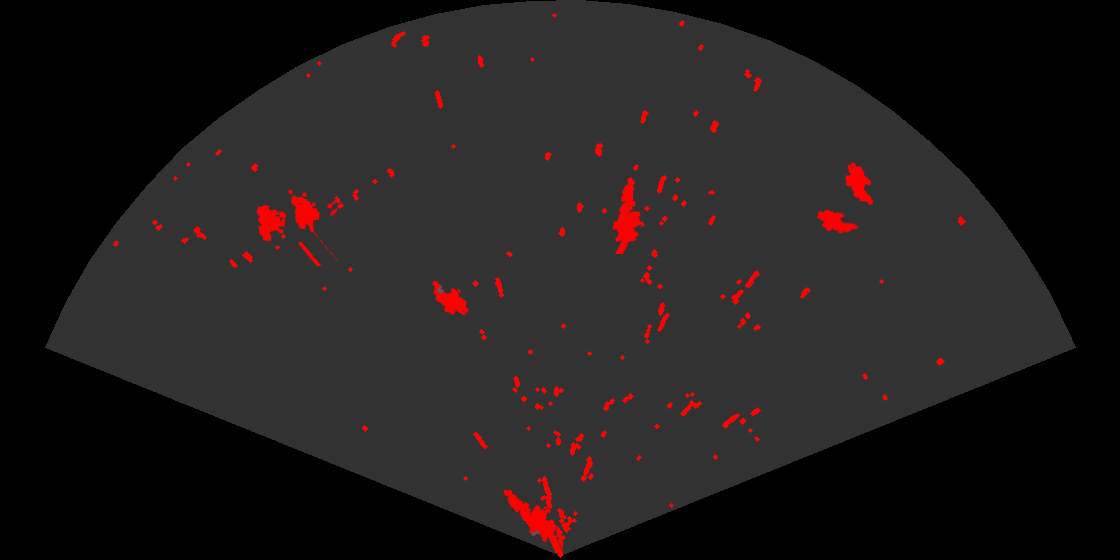AUV: (431, 279, 470, 317), (844, 161, 875, 207), (815, 208, 860, 235)
cage: (255, 188, 337, 266)
frogman: (502, 488, 564, 553), (611, 176, 646, 254)
